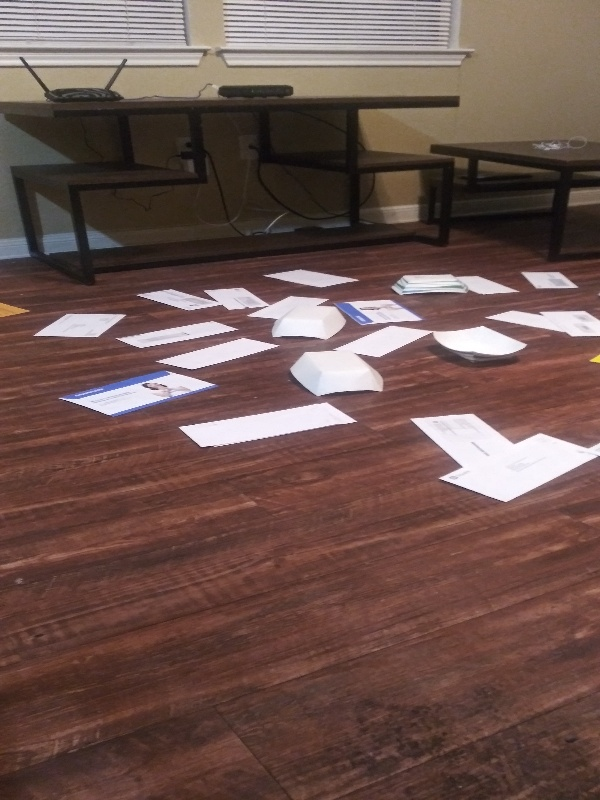plate: (284, 347, 386, 400), (425, 323, 532, 368), (268, 302, 349, 344), (383, 268, 473, 298)
